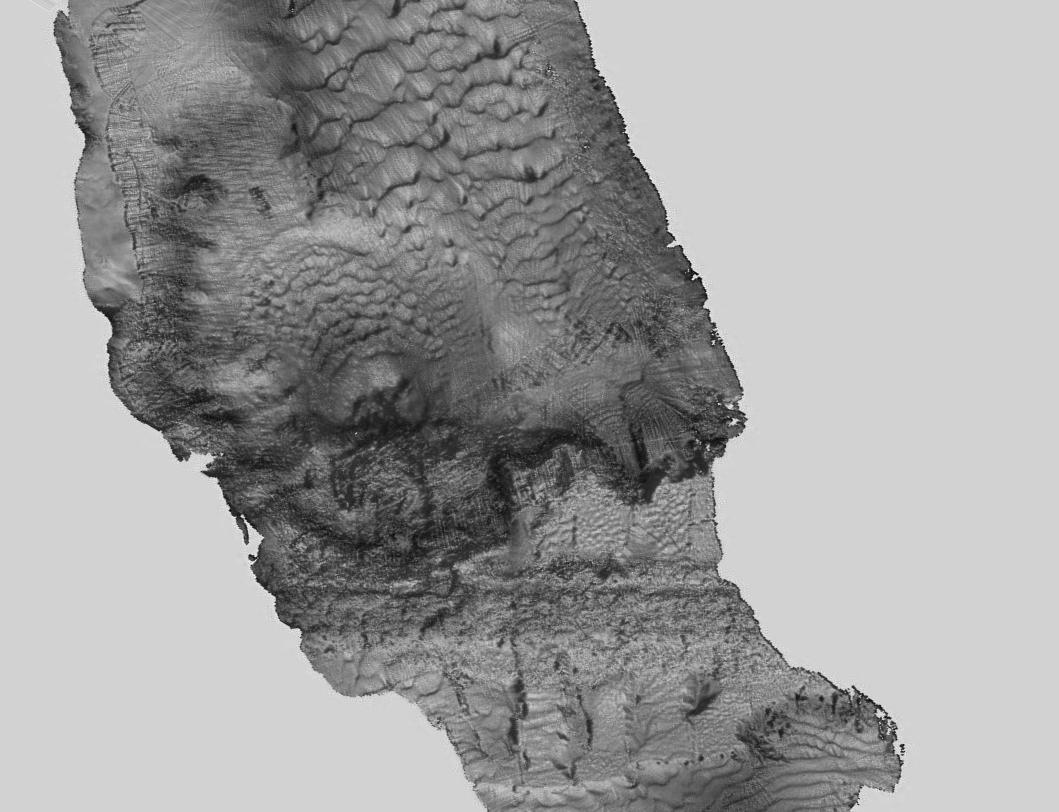Dune: (299, 1, 605, 297), (260, 253, 446, 358), (710, 724, 913, 810)
Scarp: (57, 9, 242, 533)
Scour pit: (256, 344, 499, 437)
Submerged dike: (224, 533, 916, 702)
